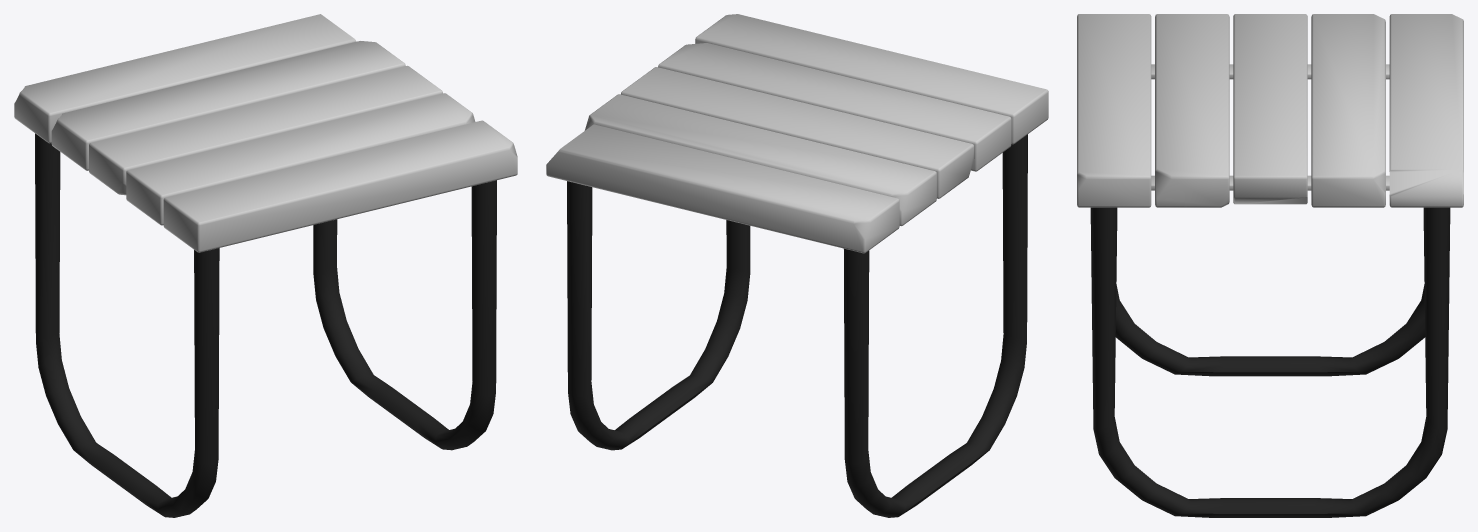
Rendered from Table-1__2p_.fbx.
The picture shows the model from 3 angles, left to right: view 1: azimuth 30°, elevation 25°; view 2: azimuth 150°, elevation 25°; view 3: azimuth 270°, elevation 25°; orthographic projection. The views are drawn at different scales.
Visible parts, largest first — view 1: Table-1.(2p); view 2: Table-1.(2p); view 3: Table-1.(2p).
Part boxes in pixels (x1,y1,x2,y2): Table-1.(2p): [14, 14, 517, 517]; Table-1.(2p): [546, 14, 1048, 517]; Table-1.(2p): [1077, 14, 1463, 517].
Size of the model in its own units: 0.75 by 0.7498 by 0.75.
